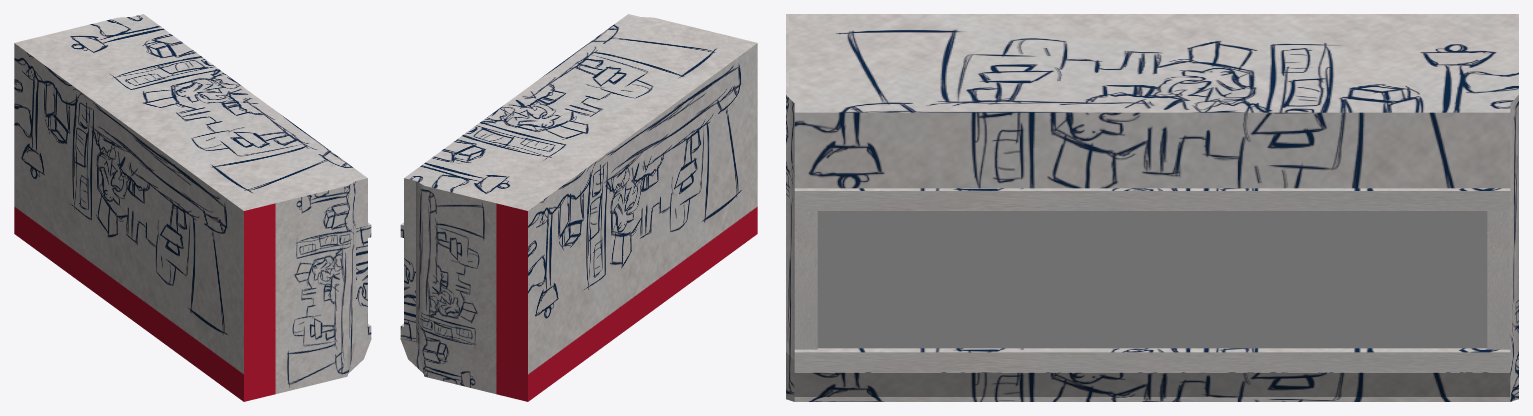
Rendered from freezer_Upper.fbx.
3 views of the same model, side by side, from view 1: azimuth 30°, elevation 25°; view 2: azimuth 150°, elevation 25°; view 3: azimuth 270°, elevation 25° (orthographic). The views are drawn at different scales.
Parts seen in each view (by area): view 1: freezer_horizontal_upper, freezer_horizontal_upper_door; view 2: freezer_horizontal_upper, freezer_horizontal_upper_door; view 3: freezer_horizontal_upper, door_window, freezer_horizontal_upper_door.
Boxes of the visible parts, left/top/right/bottom form: freezer_horizontal_upper: left=14, top=14, right=371, bottom=401; freezer_horizontal_upper_door: left=356, top=222, right=371, bottom=341; freezer_horizontal_upper: left=400, top=14, right=757, bottom=401; freezer_horizontal_upper_door: left=400, top=222, right=415, bottom=341; freezer_horizontal_upper: left=786, top=14, right=1518, bottom=401; door_window: left=817, top=211, right=1487, bottom=348; freezer_horizontal_upper_door: left=794, top=188, right=1510, bottom=372.
Bounding box in the file's own units: 84.74 × 118 × 258.
